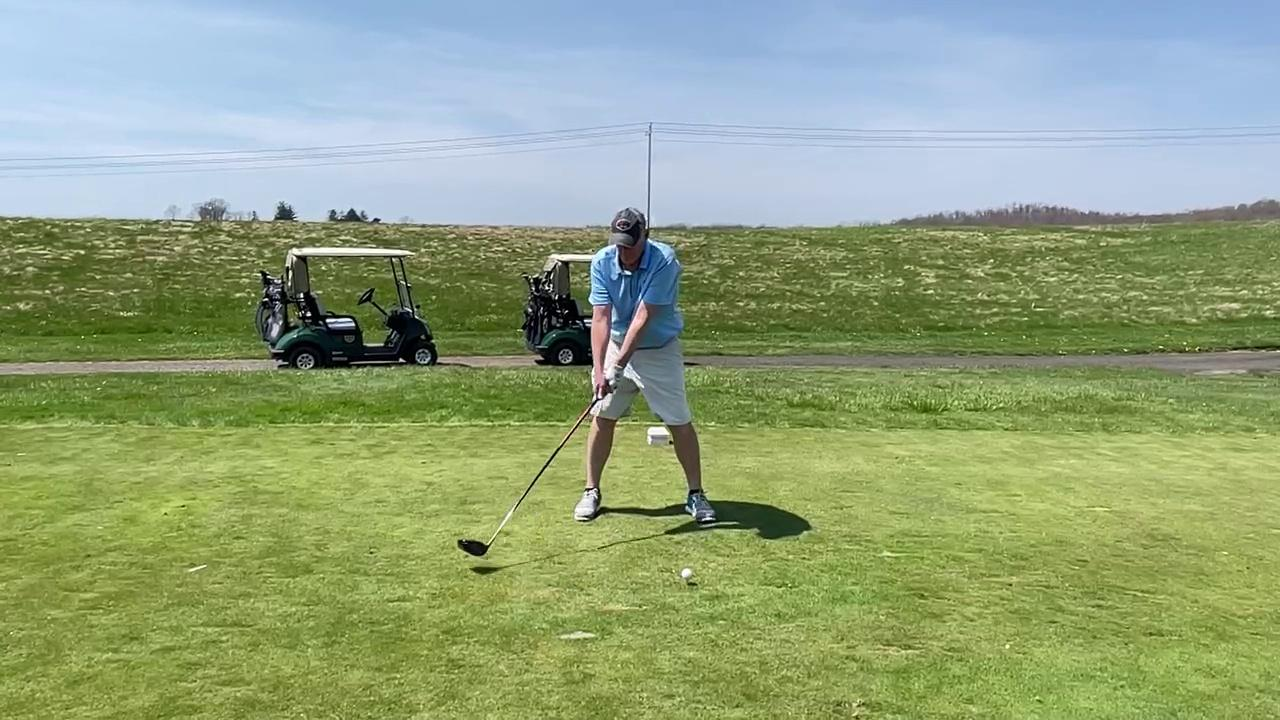ClubHead: (452, 528, 498, 562)
GolfBall: (680, 566, 695, 583)
